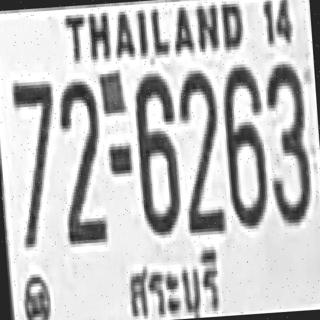N02: (55, 77, 105, 232), (175, 68, 223, 225)
N03: (264, 60, 312, 224)
N06: (130, 69, 180, 233), (220, 63, 268, 227)
N07: (11, 78, 61, 245)
P60: (115, 235, 231, 320)
